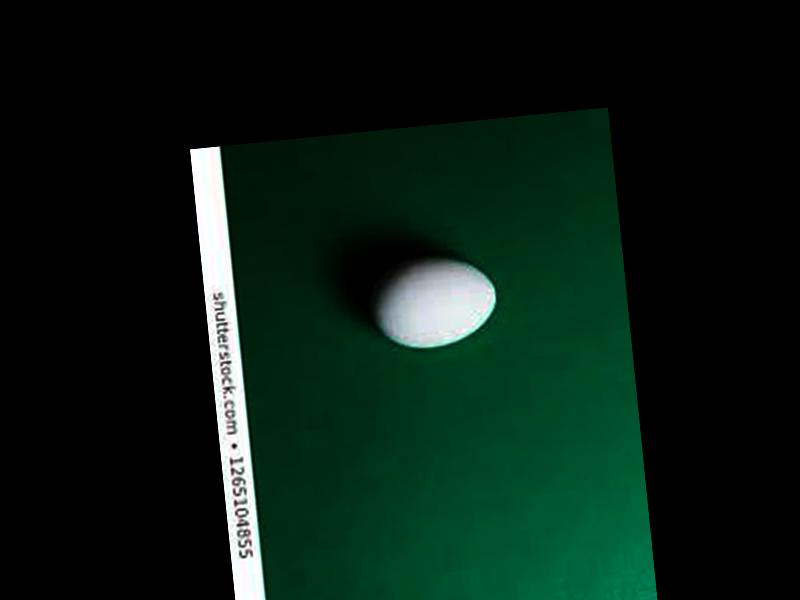Eggs: (365, 253, 500, 357)
